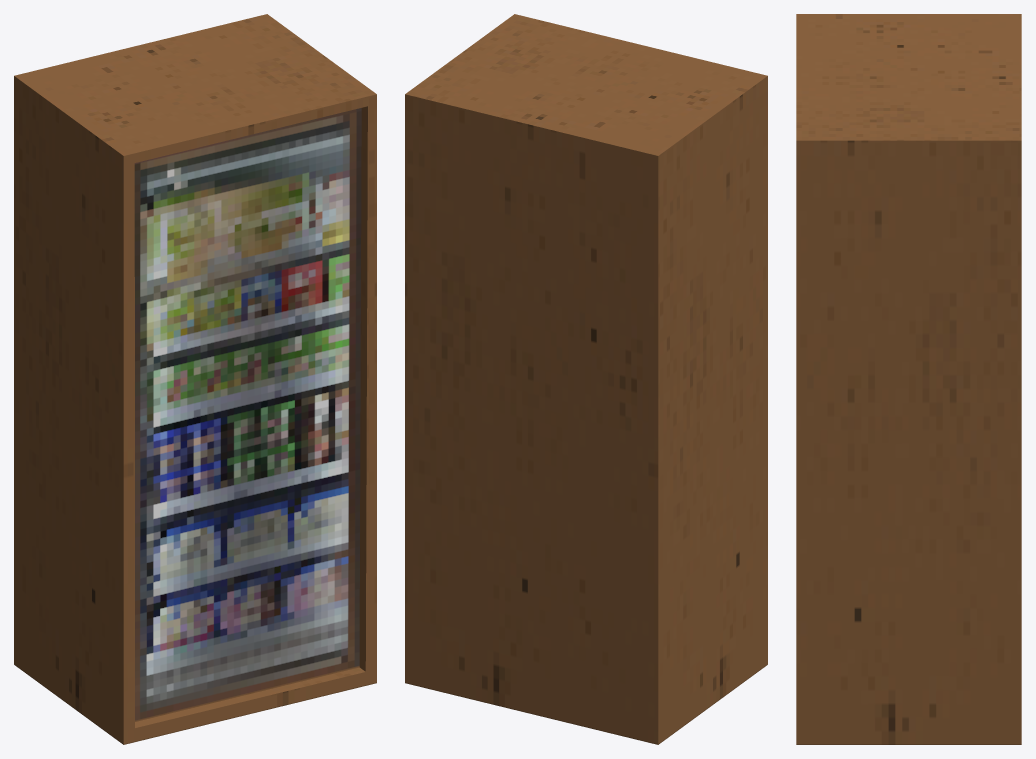
File: Refrigerador.001.fbx
The picture shows the model from 3 angles, left to right: view 1: azimuth 30°, elevation 25°; view 2: azimuth 150°, elevation 25°; view 3: azimuth 270°, elevation 25°; orthographic projection. The views are drawn at different scales.
Parts seen in each view (by area): view 1: Refrigerador_001; view 2: Refrigerador_001; view 3: Refrigerador_001.
Part boxes in pixels (box(x1,y1,x2,y2)): Refrigerador_001: box(14, 14, 376, 744); Refrigerador_001: box(405, 14, 767, 744); Refrigerador_001: box(796, 14, 1021, 744).
Bounding box in the file's own units: 90 × 200 × 67.5.
Materials: 1 (1 with a texture image).
